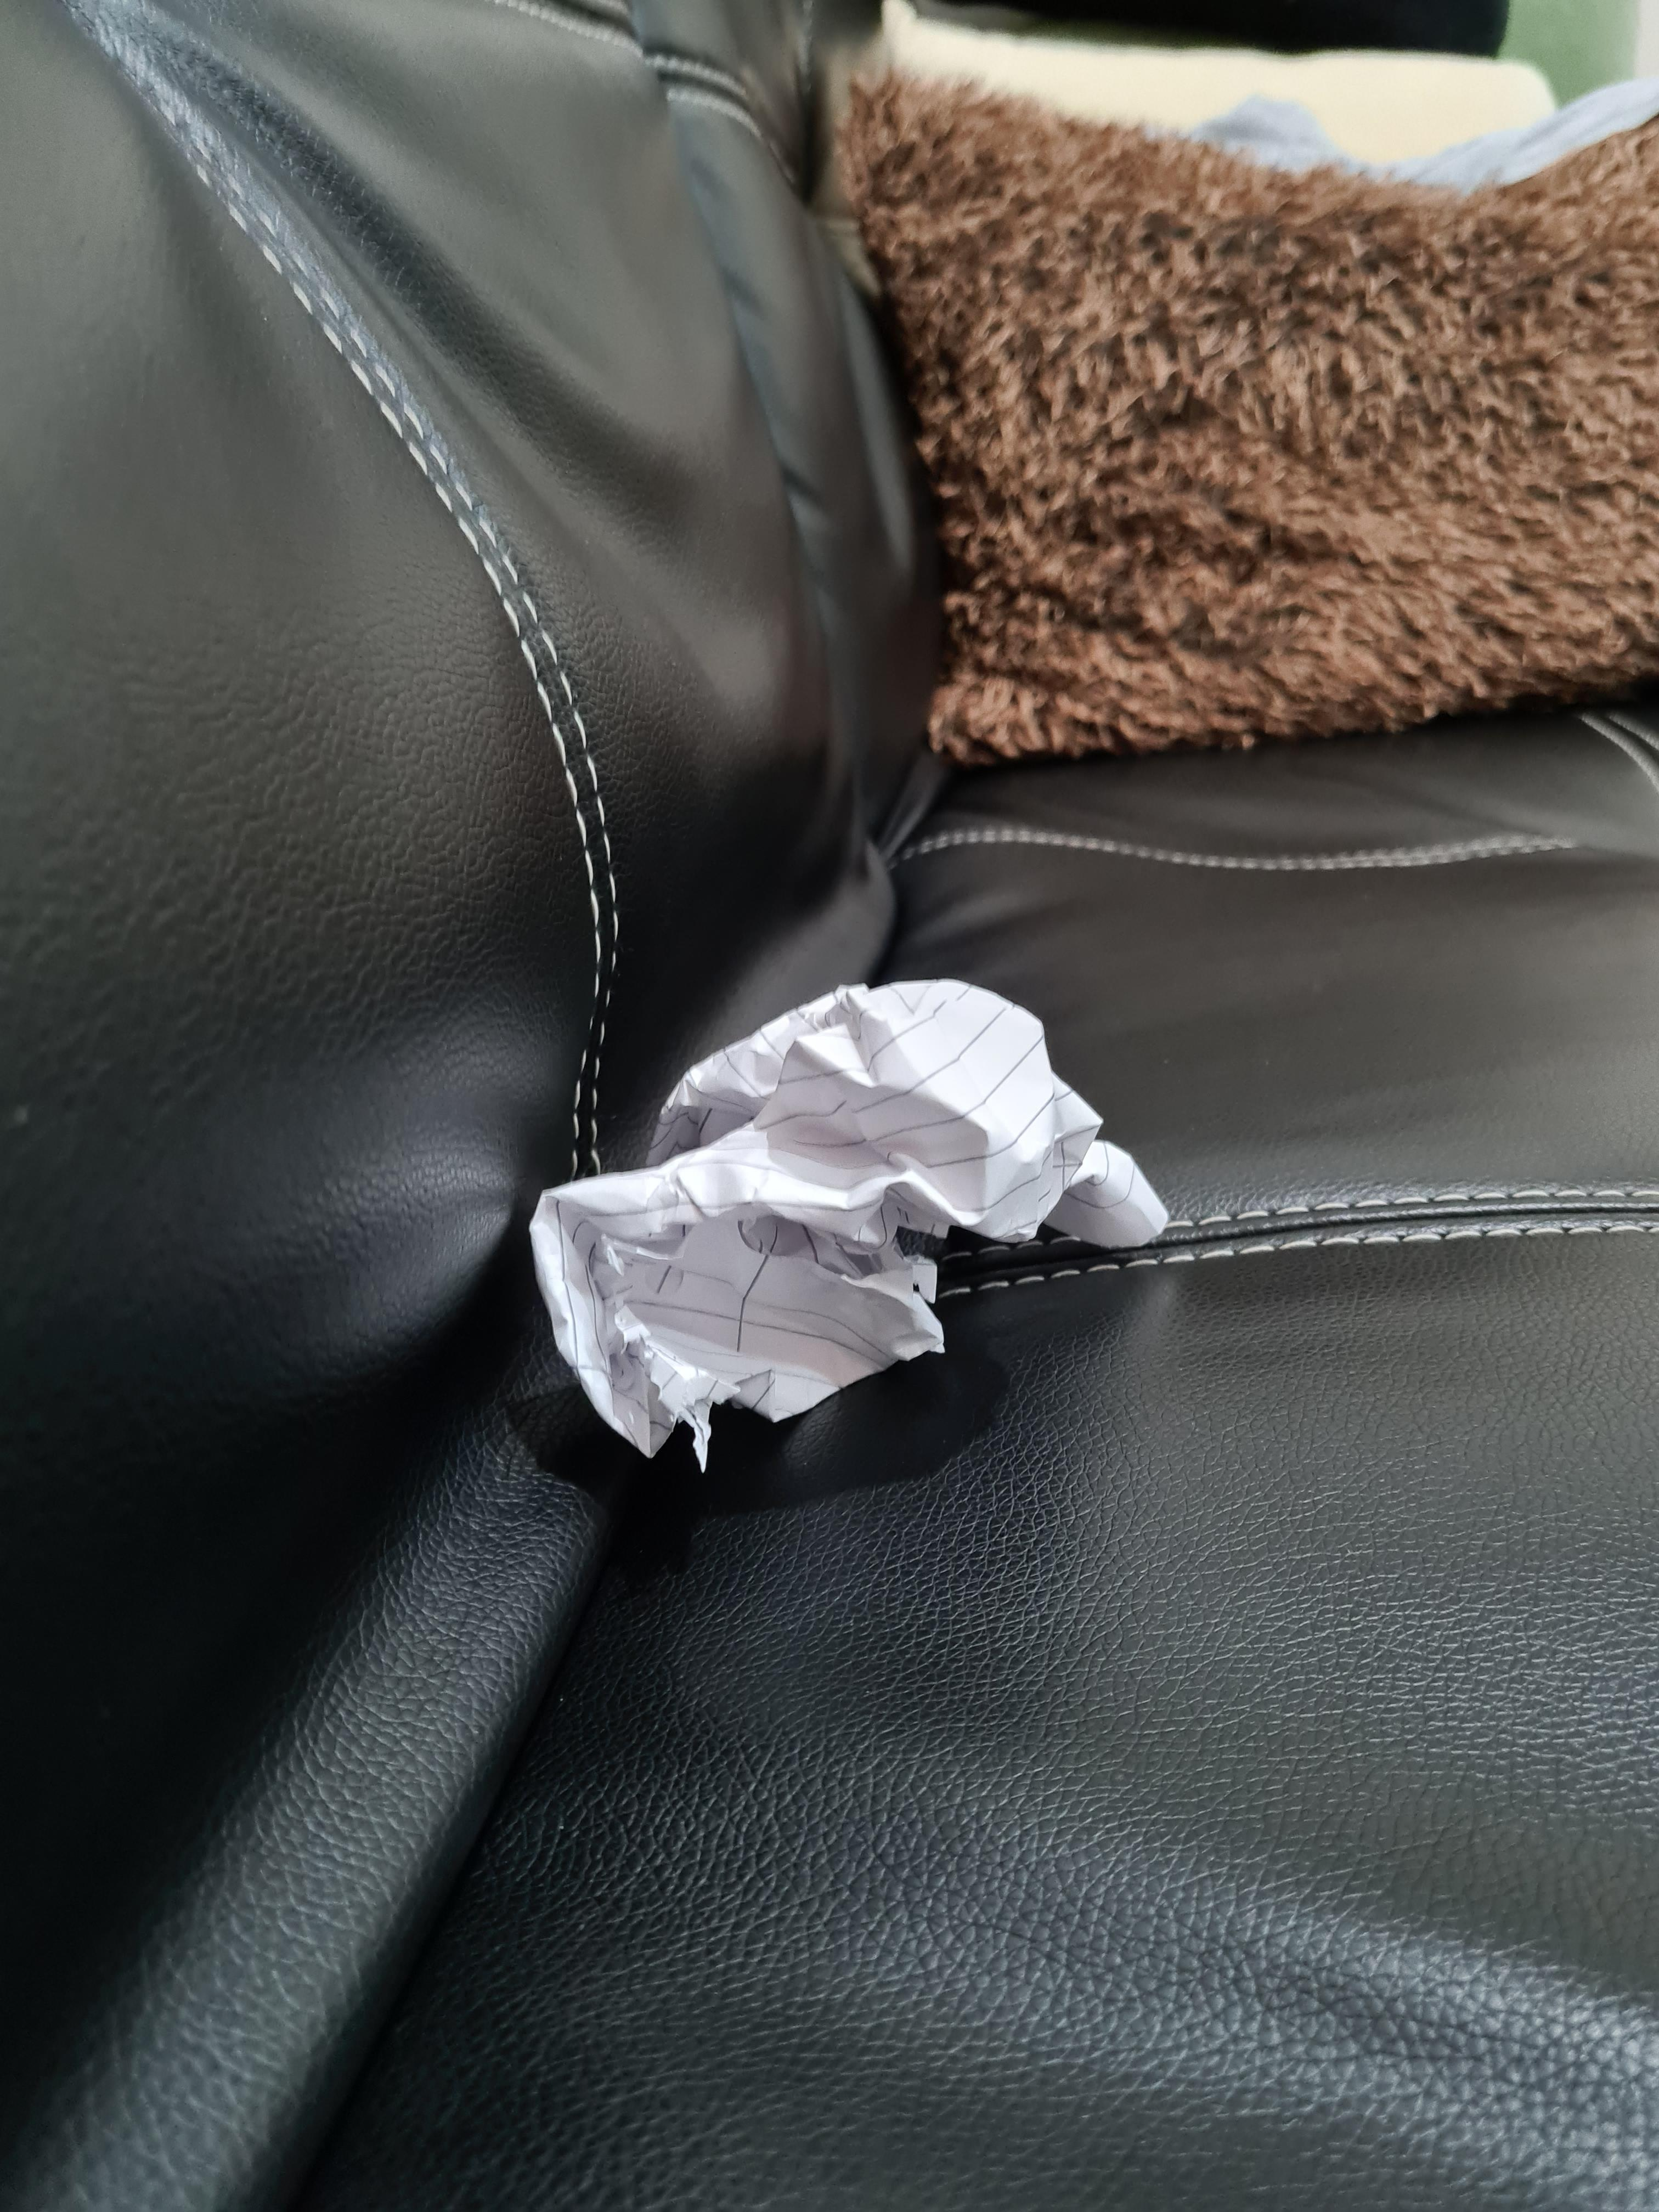Paper: (561, 934, 1116, 1483)
